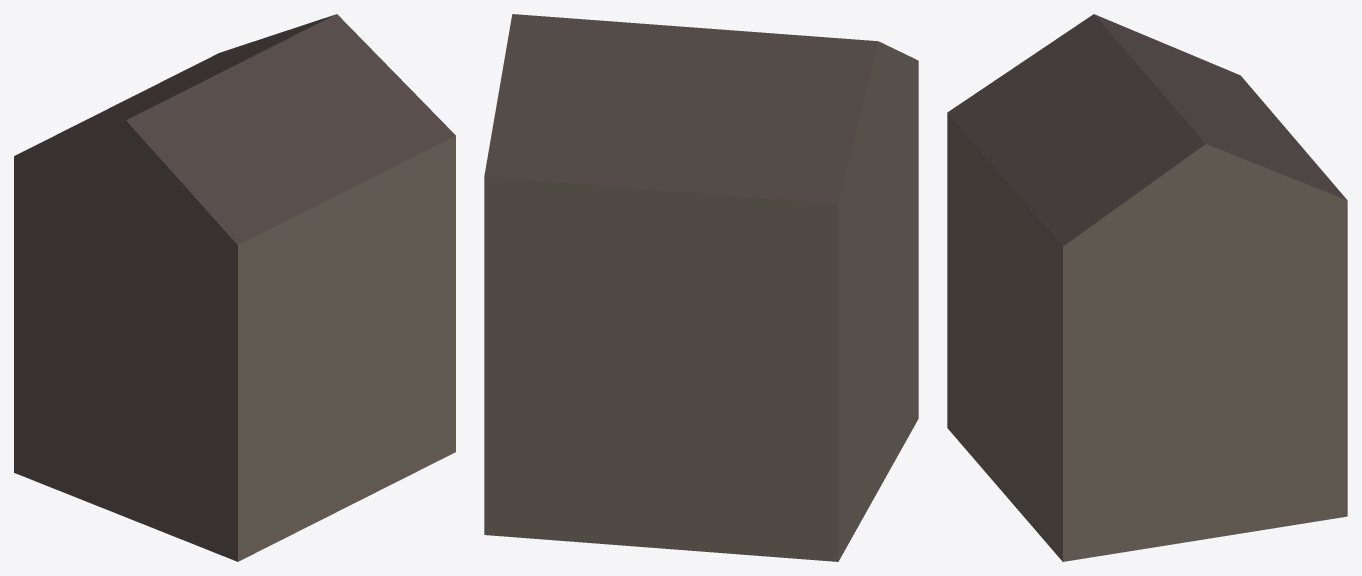
The picture shows the model from 3 angles, left to right: view 1: azimuth 30°, elevation 25°; view 2: azimuth 150°, elevation 25°; view 3: azimuth 270°, elevation 25°; orthographic projection. The views are drawn at different scales.
Visible parts, largest first — view 1: HP-w505643604; view 2: HP-w505643604; view 3: HP-w505643604.
Part boxes in pixels (x1,y1,x2,y2): HP-w505643604: (14,14,455,561); HP-w505643604: (484,14,918,561); HP-w505643604: (947,14,1347,561).
Size of the model in its own units: 10.49 by 11.29 by 10.37.
